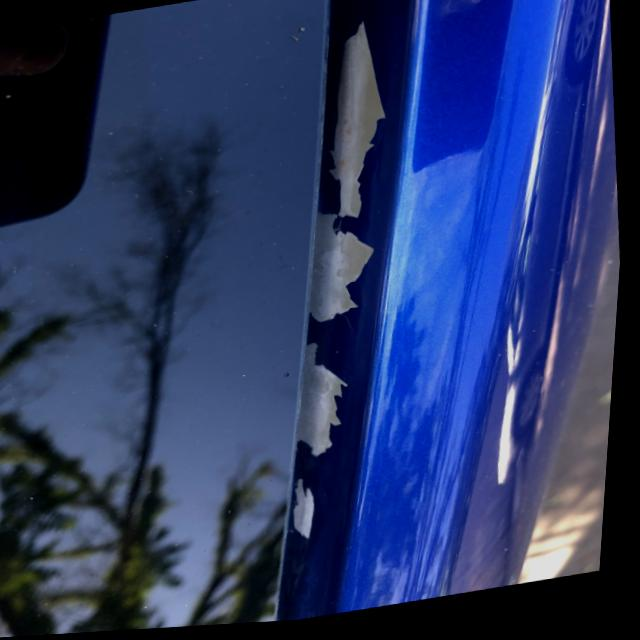Paint-fading: (324, 6, 401, 226), (302, 207, 393, 331), (285, 330, 351, 461), (284, 477, 325, 549)
